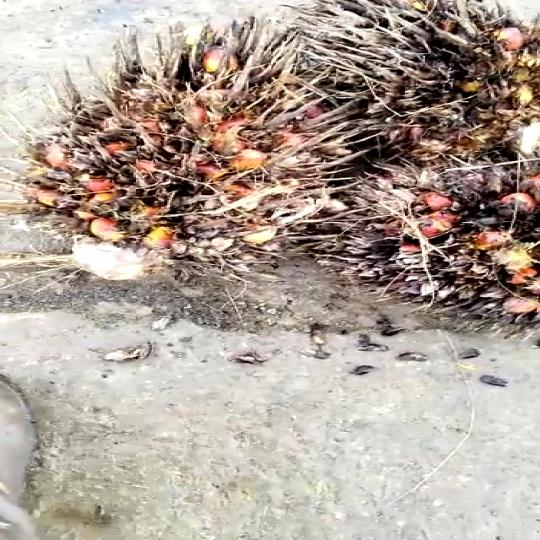terlalu masak: (19, 19, 376, 277), (287, 0, 540, 158)
